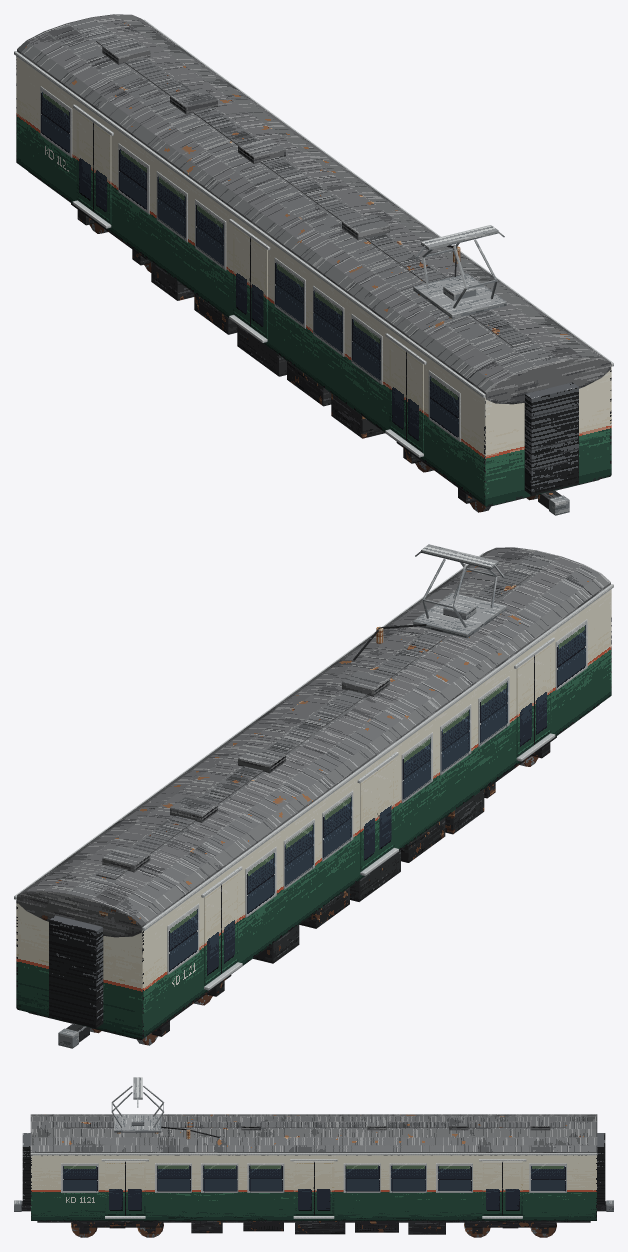
File: train_mid.glb
3 views of the same model, one above another, from view 1: azimuth 30°, elevation 25°; view 2: azimuth 150°, elevation 25°; view 3: azimuth 270°, elevation 25° (orthographic). The views are drawn at different scales.
Visible parts, largest first — view 1: train_mid; view 2: train_mid; view 3: train_mid.
Boxes of the visible parts, box(x1,y1,x2,y2) form: train_mid: box(14, 14, 613, 515); train_mid: box(14, 544, 613, 1048); train_mid: box(14, 1077, 613, 1237).
Size of the model in its own units: 3.02 by 4.98 by 19.08.
1 material, 1 textured.
